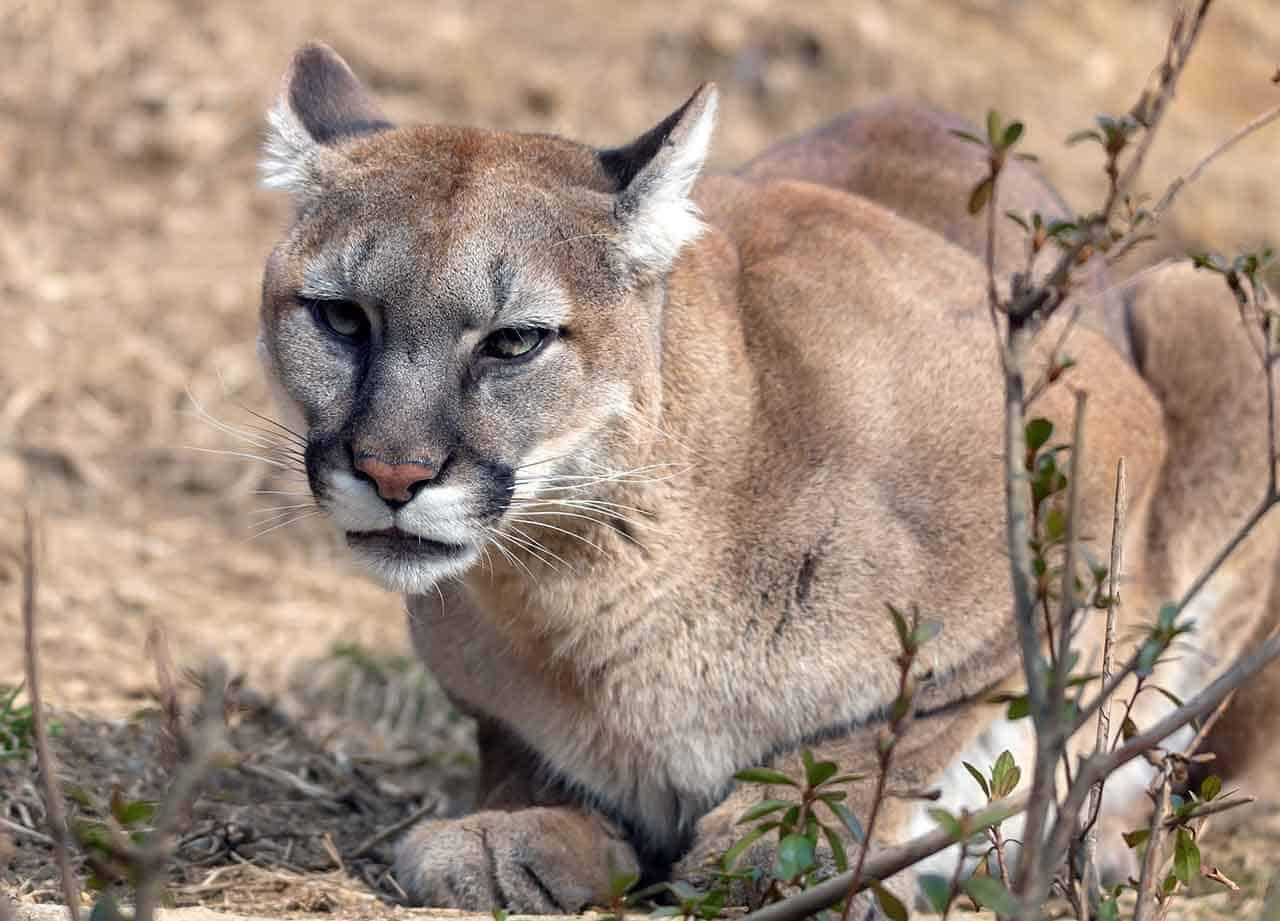OncaParda: (233, 33, 1259, 906)
